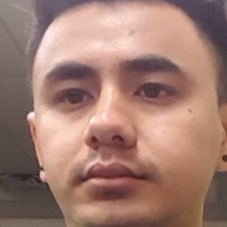awake: (39, 48, 197, 197)
